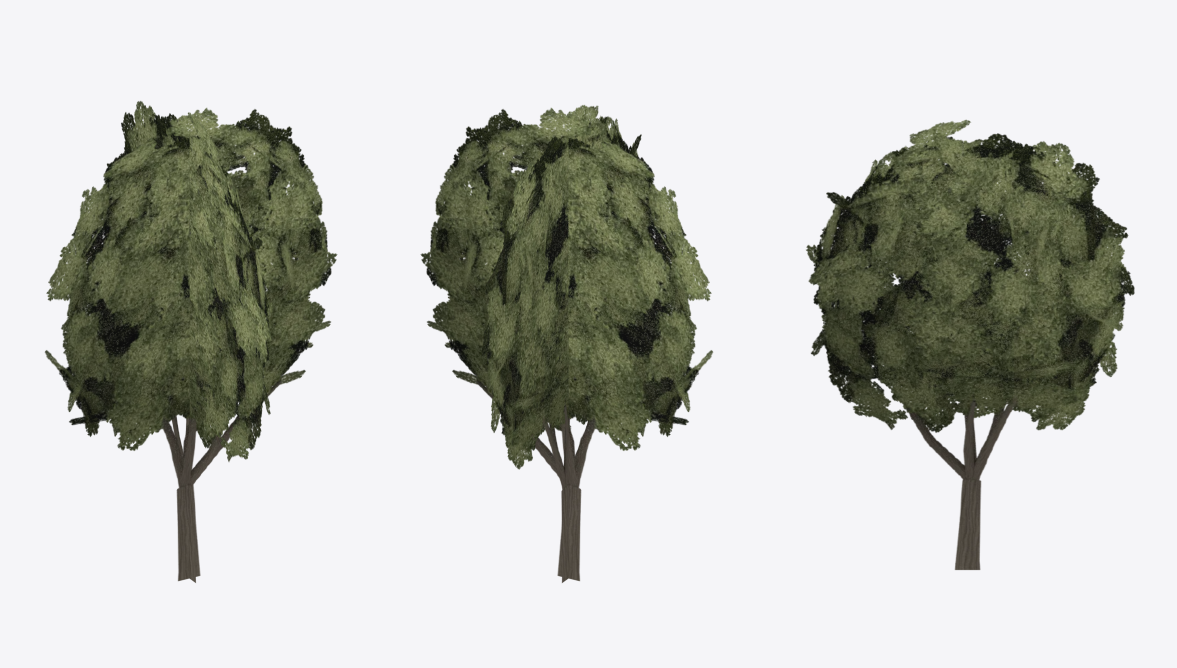
The model's file is bayf.glb.
3 views of the same model, side by side, from view 1: azimuth 30°, elevation 25°; view 2: azimuth 150°, elevation 25°; view 3: azimuth 270°, elevation 25° (orthographic). The views are drawn at different scales.
Visible parts, largest first — view 1: bay_lod1; view 2: bay_lod1; view 3: bay_lod1.
Part boxes in pixels (bbox=[...]): bay_lod1: bbox=[45, 101, 337, 582]; bay_lod1: bbox=[420, 105, 712, 582]; bay_lod1: bbox=[806, 119, 1134, 569].
Bounding box in the file's own units: 9.93 × 13.31 × 9.93.
Materials: 1 (1 with a texture image).
